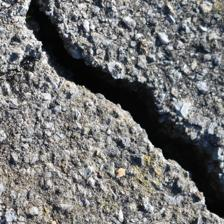Crack: (9, 2, 208, 209)
